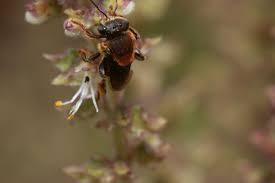Meliponula: (85, 0, 148, 95)
